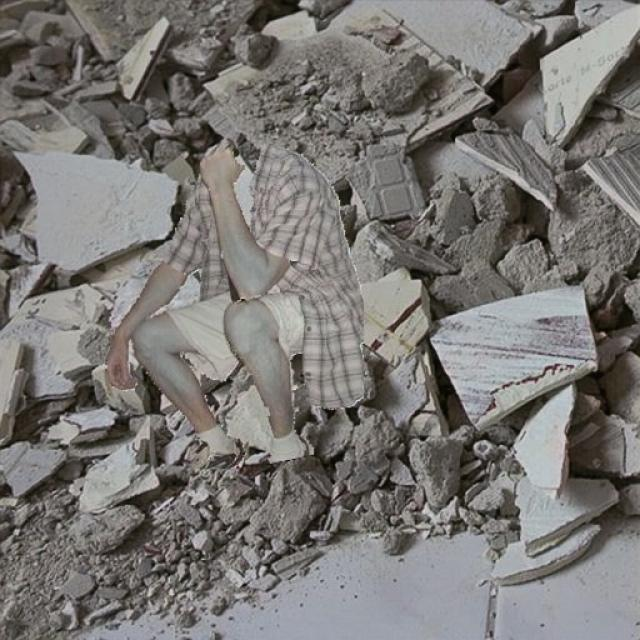Person in Rubble: (105, 144, 363, 468)
